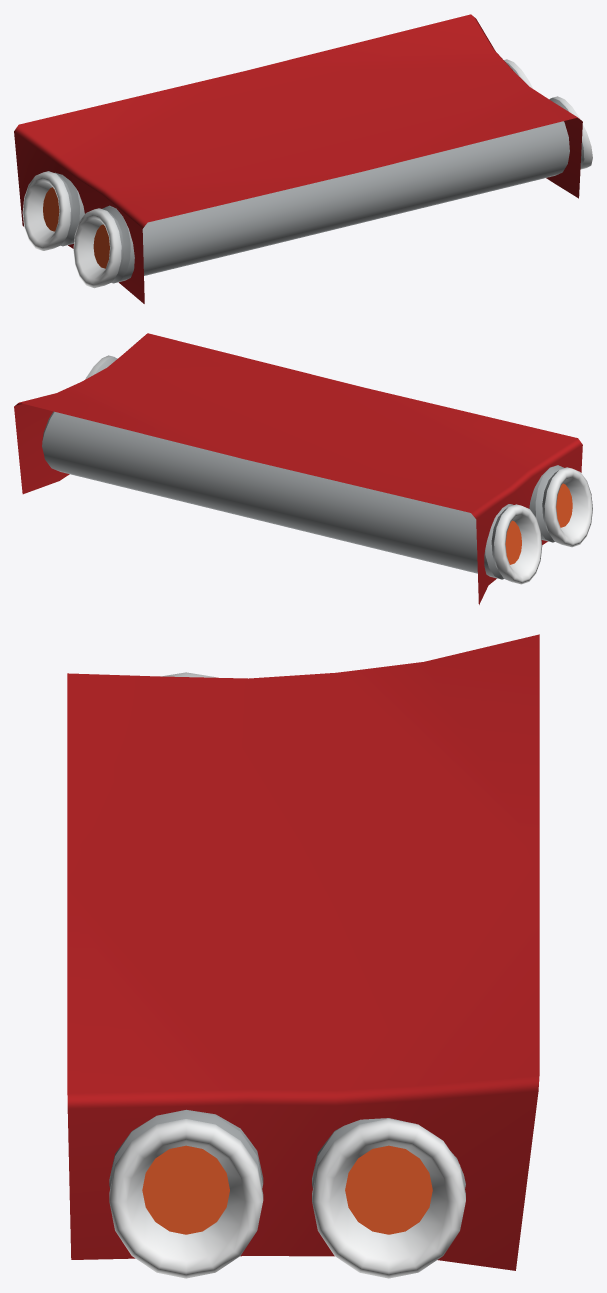
File: Car_02_Turbine.fbx
The picture shows the model from 3 angles, top to bottom: view 1: azimuth 30°, elevation 25°; view 2: azimuth 150°, elevation 25°; view 3: azimuth 270°, elevation 25°; orthographic projection. The views are drawn at different scales.
Parts seen in each view (by area): view 1: Car_02_Turbine; view 2: Car_02_Turbine; view 3: Car_02_Turbine.
Part boxes in pixels (x1,y1,x2,y2): Car_02_Turbine: [14, 14, 592, 303]; Car_02_Turbine: [14, 333, 592, 604]; Car_02_Turbine: [67, 634, 539, 1278].
Size of the model in its own units: 209 by 86.31 by 39.08.
